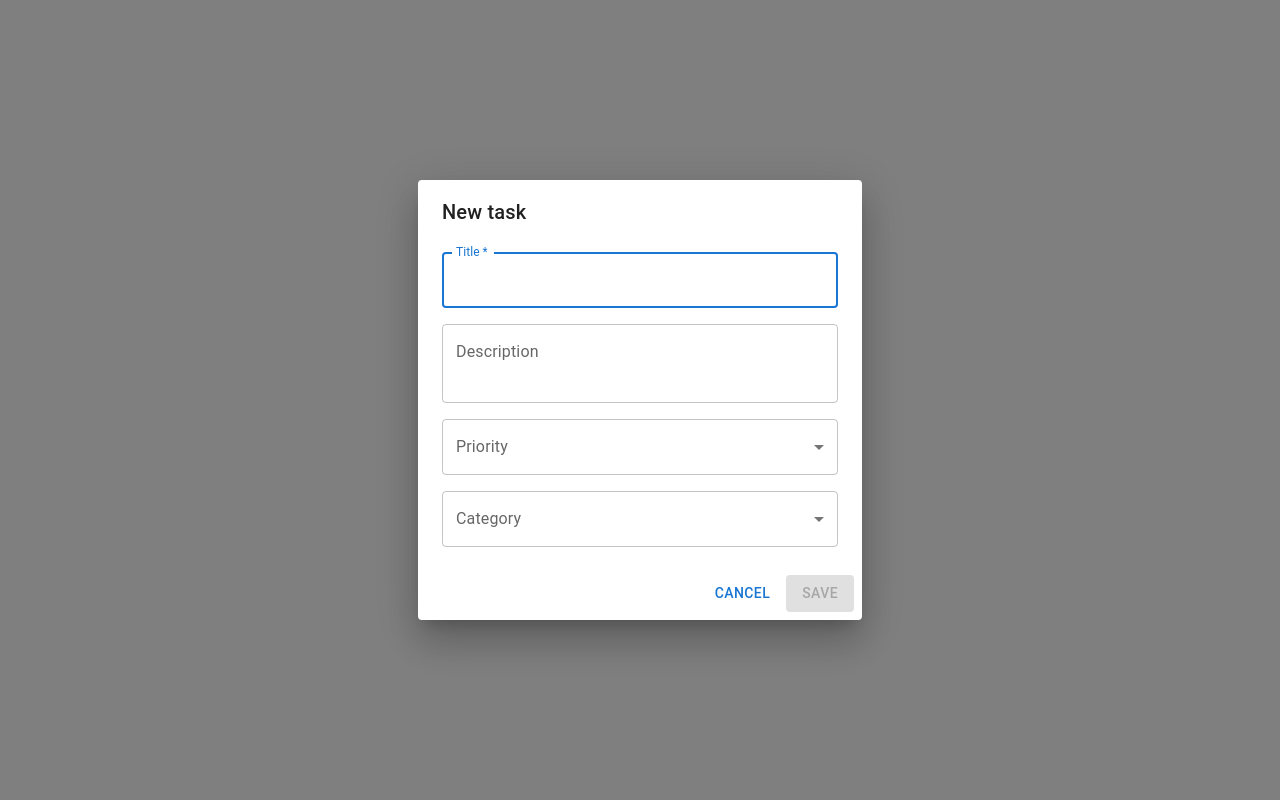
Test: Save is disabled until a name is typed
Expected: the button "Save" is disabled, [786,575,854,612]
Type "Write report" into the field labelled "Title *".
click(640, 280); type("Write report")  # box [442,252,838,308]
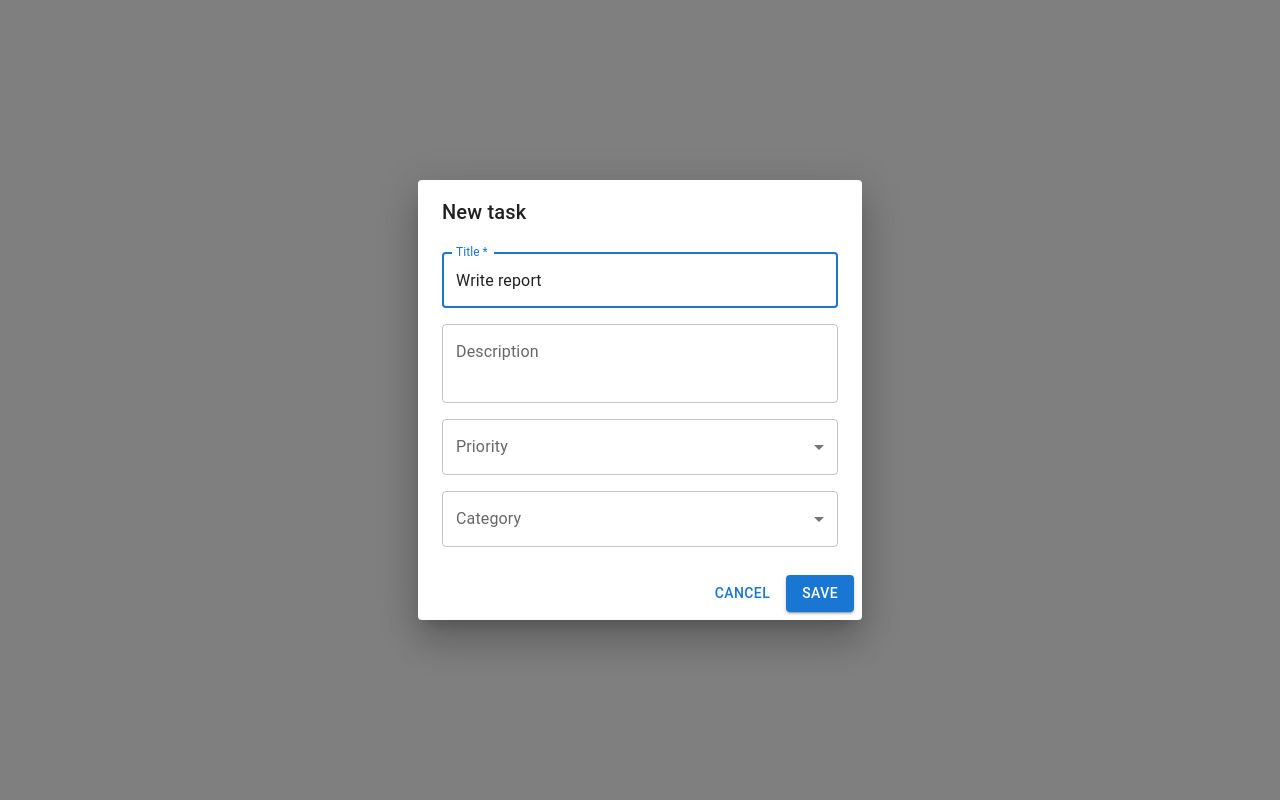
Expected: the button "Save" is enabled, [786,575,854,612]
